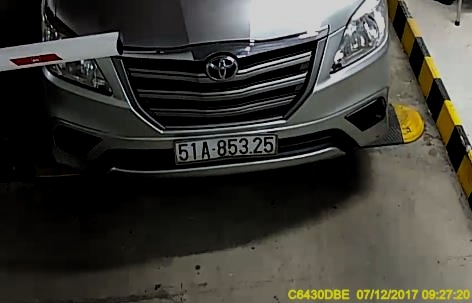plate: (171, 135, 278, 165)
